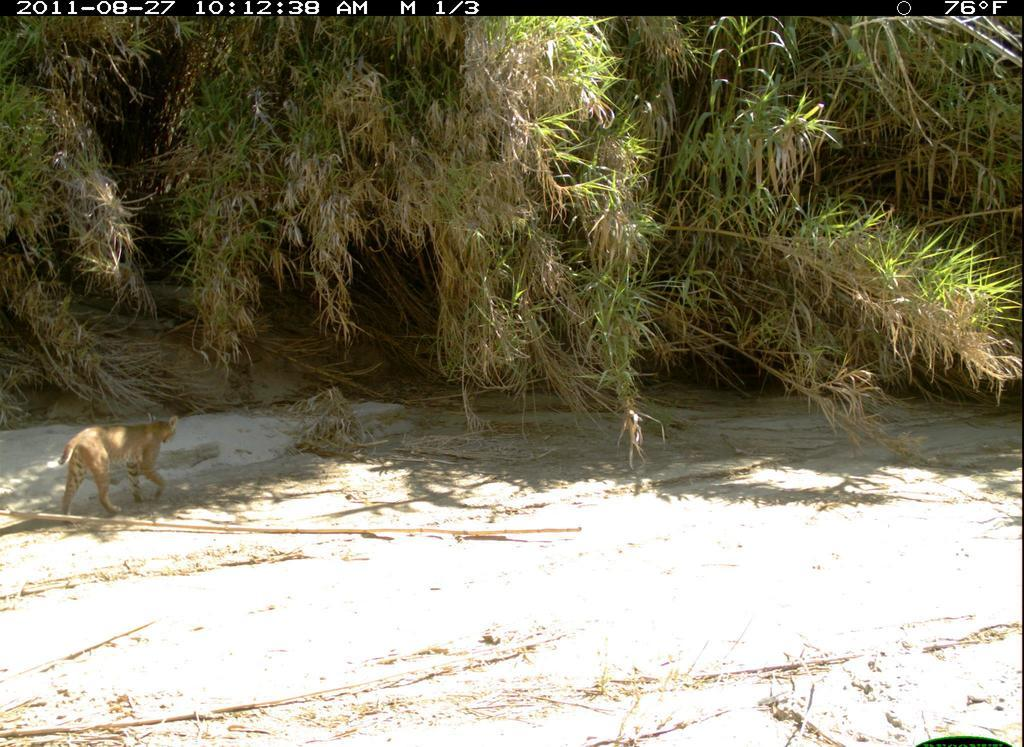bobcat: (50, 411, 182, 524)
